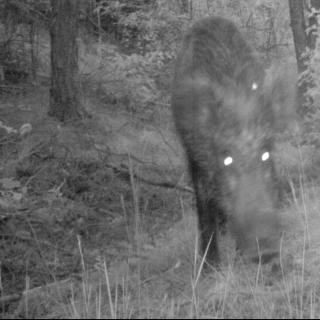Pig: (163, 25, 309, 298)
